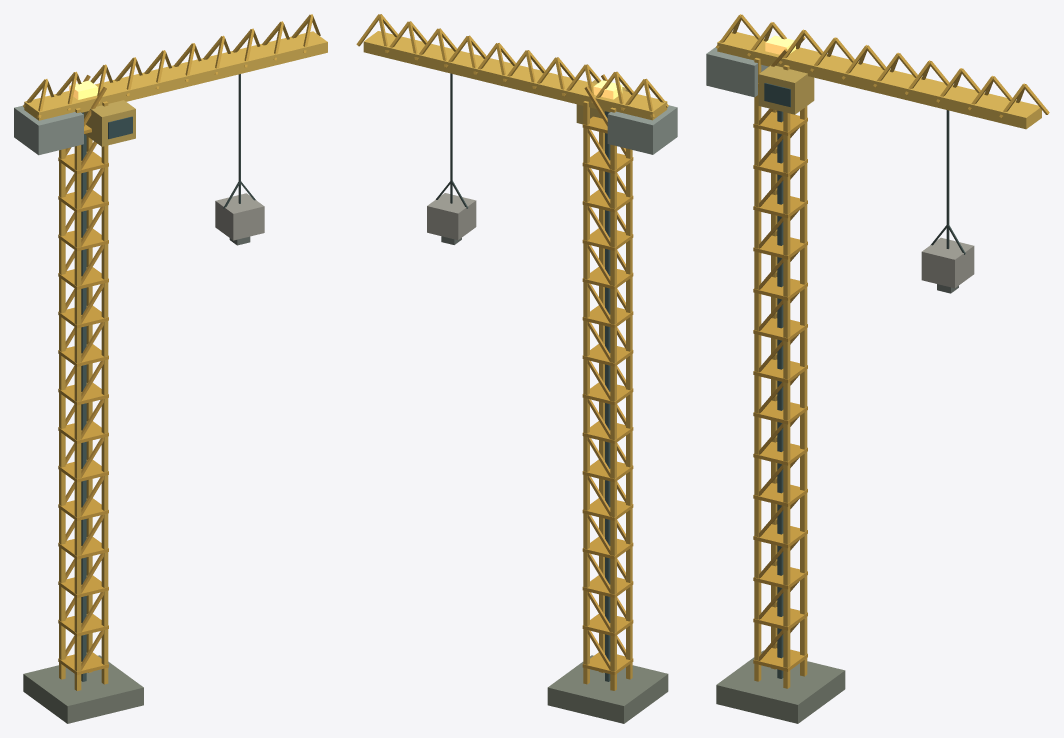
File: tower-crane-bucket.glb
3 views of the same model, side by side, from view 1: azimuth 30°, elevation 25°; view 2: azimuth 150°, elevation 25°; view 3: azimuth 330°, elevation 25° (orthographic). The views are drawn at different scales.
Visible parts, largest first — view 1: tower-crane_e6b950, jib, tower-crane_dcab44, tower-crane, tower-crane_d2a345, jib_dbae48, cargo; view 2: tower-crane_e6b950, jib, tower-crane_dcab44, tower-crane, tower-crane_d2a345, jib_dbae48, cargo; view 3: tower-crane_e6b950, jib, tower-crane_dcab44, tower-crane, jib_dbae48, tower-crane_d2a345, cargo, rope.
Boxes of the visible parts, x1=… form: tower-crane_e6b950: x1=59, y1=101, x2=108, y2=690; jib: x1=14, y1=31, x2=327, y2=155; tower-crane_dcab44: x1=58, y1=124, x2=108, y2=675; tower-crane: x1=23, y1=80, x2=143, y2=723; tower-crane_d2a345: x1=65, y1=75, x2=106, y2=670; jib_dbae48: x1=23, y1=14, x2=320, y2=117; cargo: x1=215, y1=181, x2=264, y2=245; tower-crane_e6b950: x1=583, y1=101, x2=632, y2=690; jib: x1=363, y1=31, x2=677, y2=154; tower-crane_dcab44: x1=582, y1=116, x2=633, y2=675; tower-crane: x1=547, y1=80, x2=668, y2=723; tower-crane_d2a345: x1=584, y1=74, x2=625, y2=670; jib_dbae48: x1=356, y1=14, x2=668, y2=117; cargo: x1=427, y1=181, x2=476, y2=244; tower-crane_e6b950: x1=754, y1=58, x2=807, y2=688; jib: x1=706, y1=31, x2=1041, y2=129; tower-crane_dcab44: x1=753, y1=83, x2=807, y2=671; tower-crane: x1=716, y1=35, x2=845, y2=723; jib_dbae48: x1=716, y1=14, x2=1049, y2=118; tower-crane_d2a345: x1=759, y1=36, x2=805, y2=660; cargo: x1=921, y1=225, x2=974, y2=293; rope: x1=946, y1=110, x2=949, y2=248.
Size of the model in its own units: 5.32 by 10.6 by 1.35.
